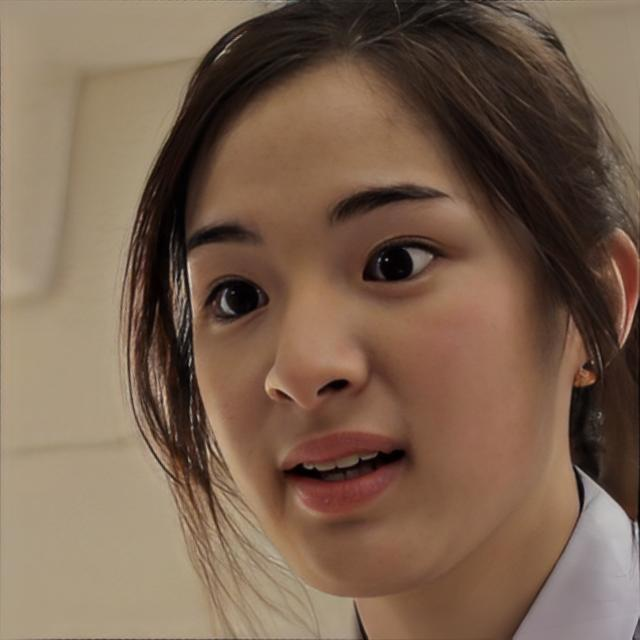surprise: (178, 47, 562, 596)
